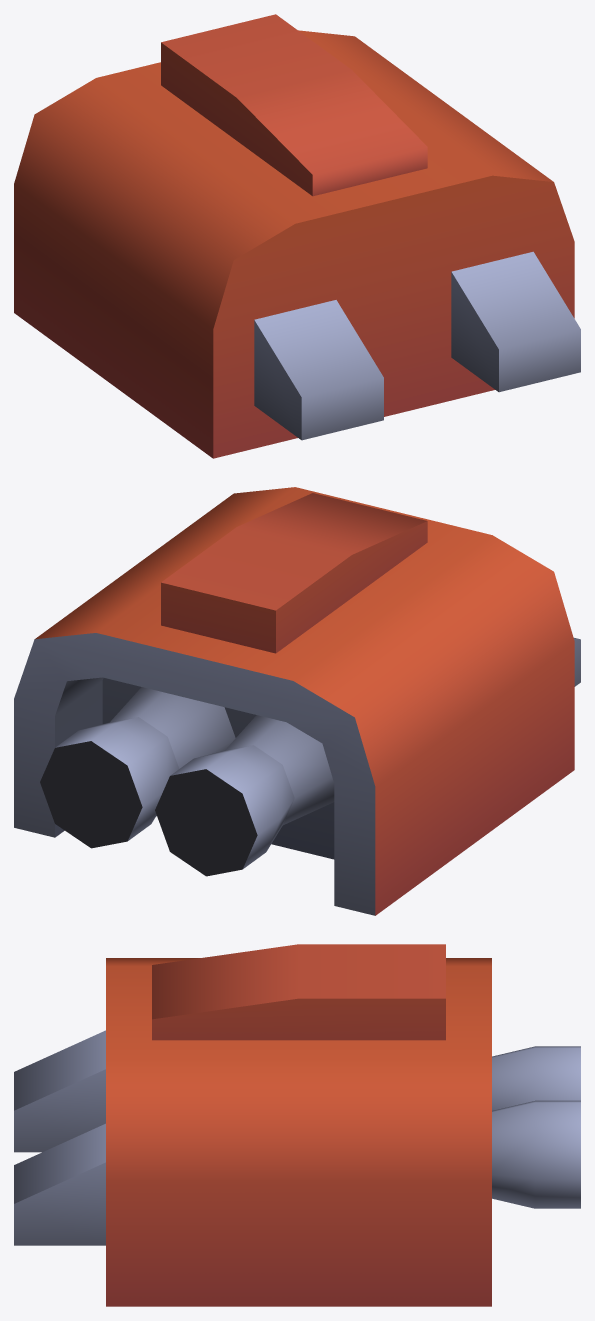
File: turret.fbx
3 renders of one model, top to bottom at view 1: azimuth 30°, elevation 25°; view 2: azimuth 150°, elevation 25°; view 3: azimuth 270°, elevation 25°, orthographic. The views are drawn at different scales.
Parts seen in each view (by area): view 1: barrel; view 2: barrel; view 3: barrel.
Part boxes in pixels (bbox=[...]): barrel: bbox=[14, 14, 580, 458]; barrel: bbox=[14, 487, 580, 915]; barrel: bbox=[14, 944, 580, 1306].
Size of the model in its own units: 0.7133 by 0.4863 by 1.
